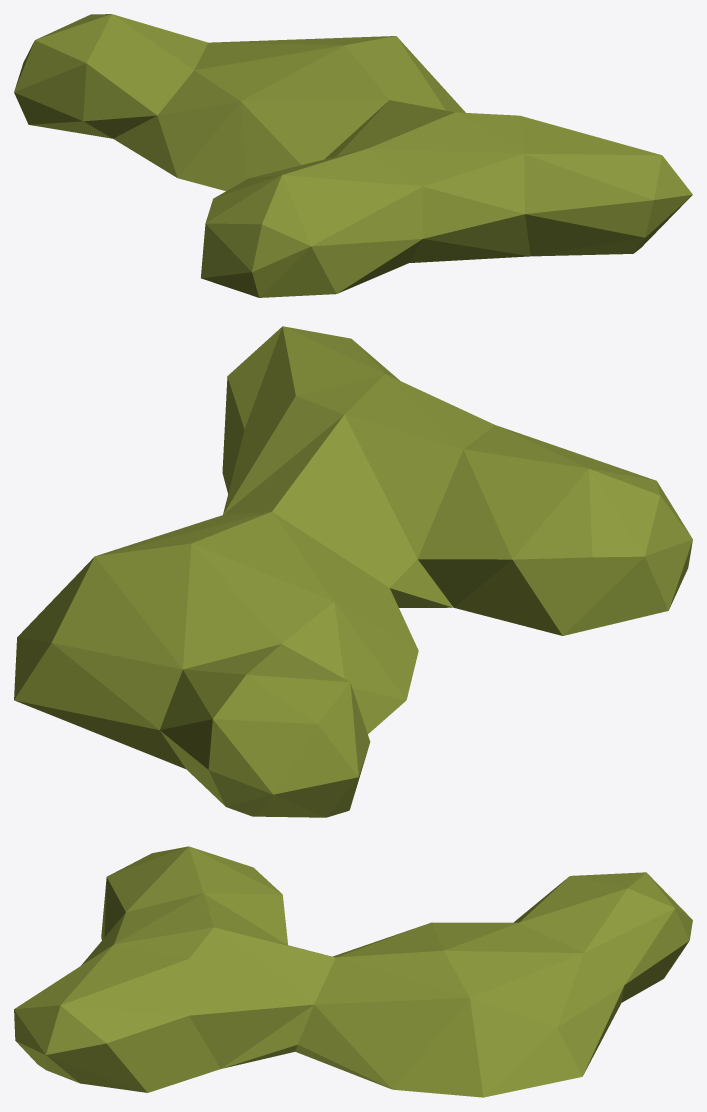
The model's file is ea_swamp_grass_02b_pre__11__lev1.glb.
The picture shows the model from 3 angles, top to bottom: view 1: azimuth 30°, elevation 25°; view 2: azimuth 150°, elevation 25°; view 3: azimuth 270°, elevation 25°; orthographic projection. The views are drawn at different scales.
Parts seen in each view (by area): view 1: ea_swamp_grass_02b_pre__11__lev1; view 2: ea_swamp_grass_02b_pre__11__lev1; view 3: ea_swamp_grass_02b_pre__11__lev1.
Part boxes in pixels (x1,y1,x2,y2): ea_swamp_grass_02b_pre__11__lev1: (14,14,692,297); ea_swamp_grass_02b_pre__11__lev1: (14,326,692,817); ea_swamp_grass_02b_pre__11__lev1: (14,846,692,1097).
Bounding box in the file's own units: 2.29 × 0.6291 × 3.36.
Materials: 1 (1 with a texture image).
